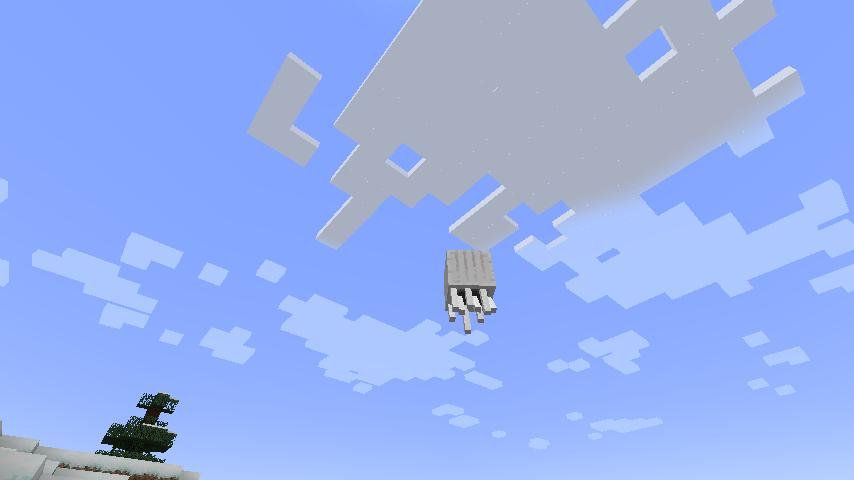ghast: (442, 246, 499, 336)
